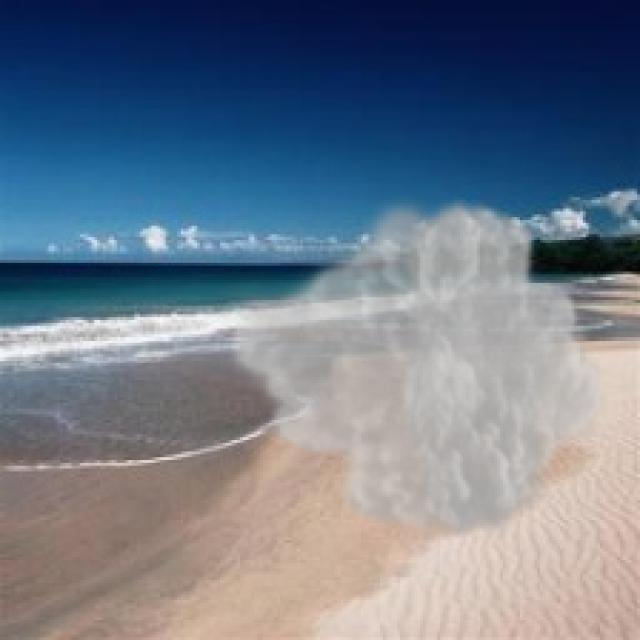Smoke: (222, 191, 608, 546)
